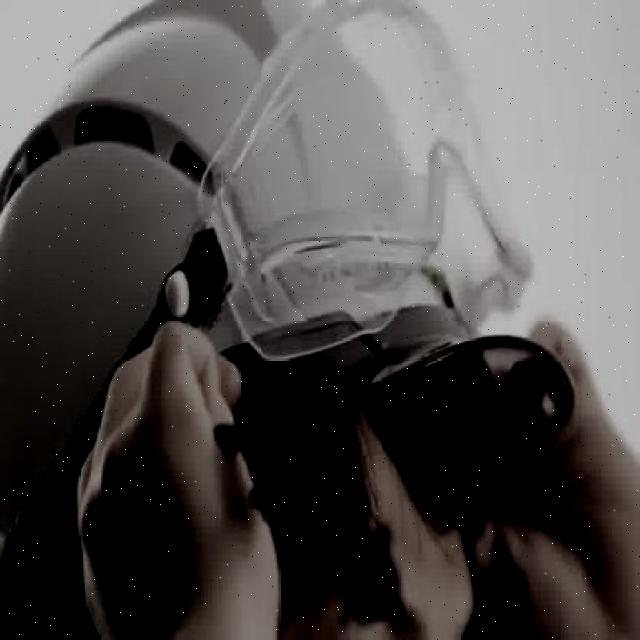Helmet: (0, 0, 583, 606)
